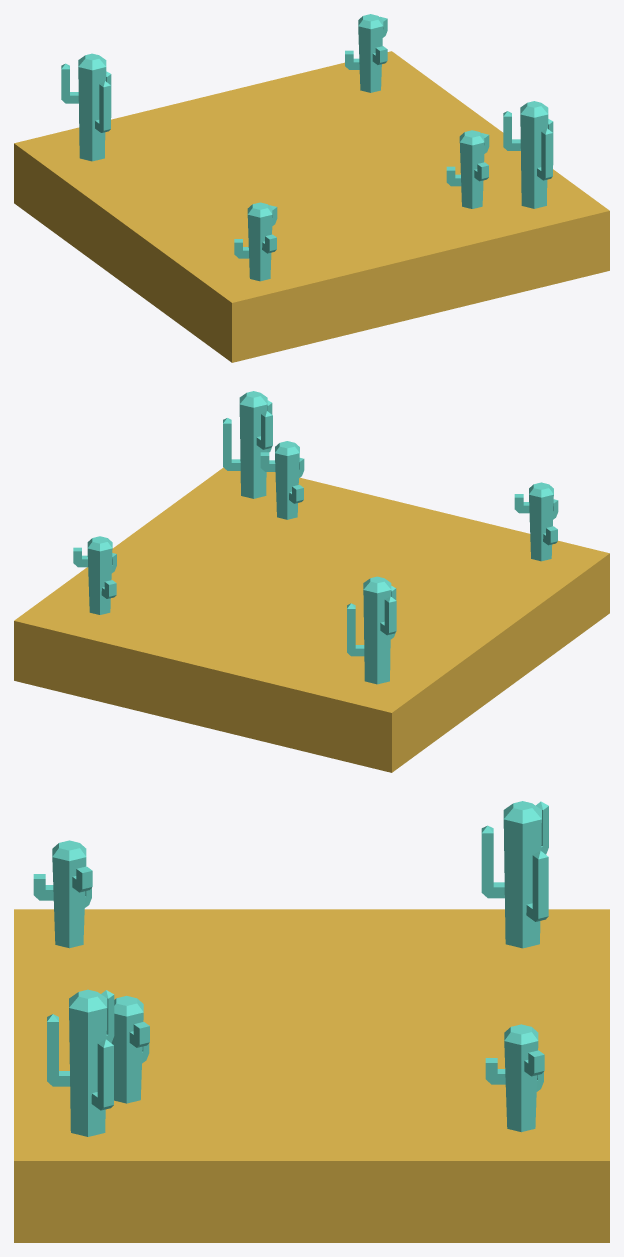
The model's file is sand.glb.
3 views of the same model, one above another, from view 1: azimuth 30°, elevation 25°; view 2: azimuth 150°, elevation 25°; view 3: azimuth 270°, elevation 25° (orthographic). The views are drawn at different scales.
Parts seen in each view (by area): view 1: Mesh1 Group1 Model.306; view 2: Mesh1 Group1 Model.306; view 3: Mesh1 Group1 Model.306.
Part boxes in pixels (x1=…): Mesh1 Group1 Model.306: x1=14, y1=14, x2=609, y2=362; Mesh1 Group1 Model.306: x1=14, y1=391, x2=609, y2=772; Mesh1 Group1 Model.306: x1=14, y1=801, x2=609, y2=1242.
Bounding box in the file's own units: 12 × 4.81 × 12.
